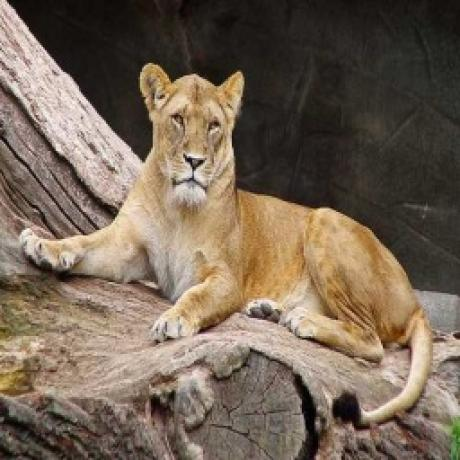Lion: (18, 62, 437, 429)
